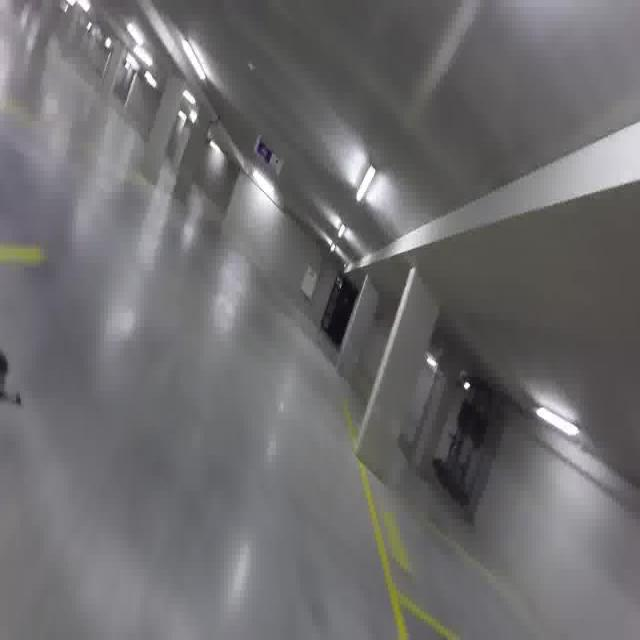drones: (1, 336, 27, 438)
